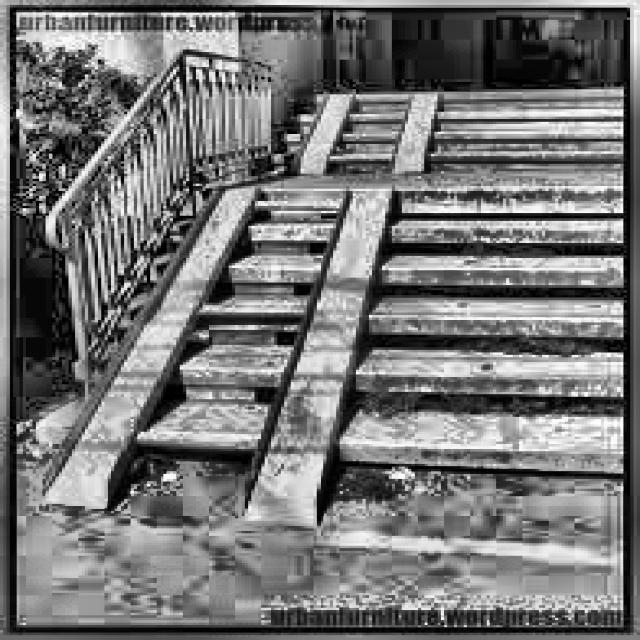escada: (395, 186, 640, 486), (434, 86, 640, 192)
